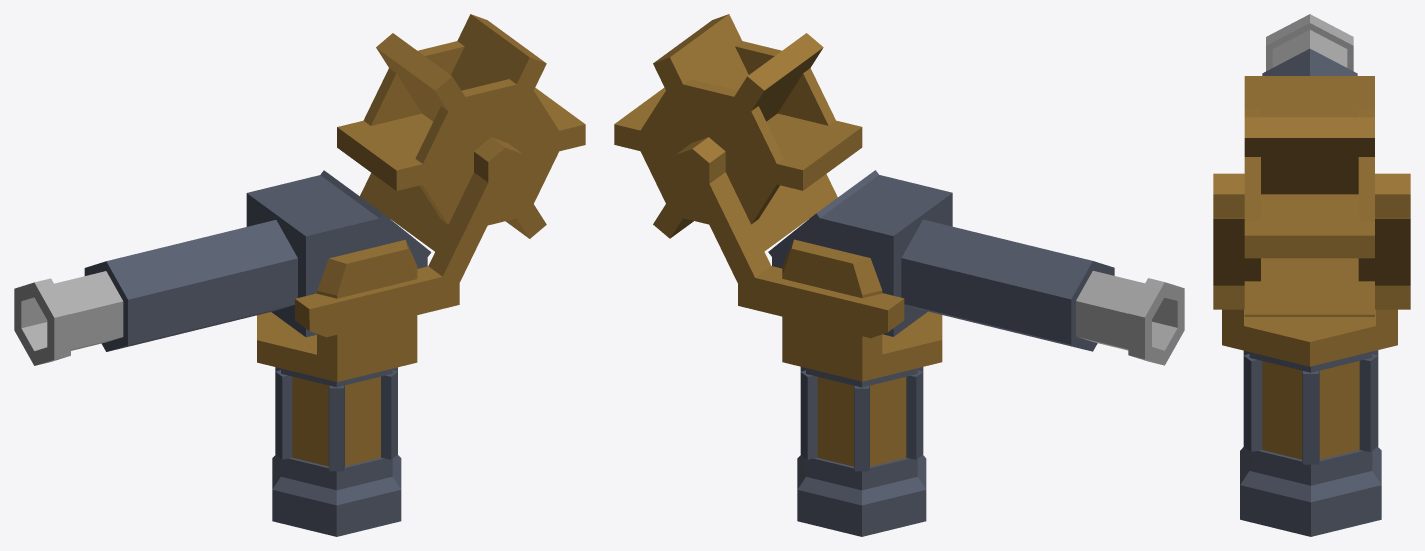
The model's file is turret1_remodel.fbx.
3 renders of one model, left to right at view 1: azimuth 30°, elevation 25°; view 2: azimuth 150°, elevation 25°; view 3: azimuth 270°, elevation 25°, orthographic. The views are drawn at different scales.
Visible parts, largest first — view 1: turret1new_head, turret1new_base; view 2: turret1new_head, turret1new_base; view 3: turret1new_head, turret1new_base.
Boxes of the visible parts, bbox=[...] form: turret1new_head: bbox=[14, 14, 585, 381]; turret1new_base: bbox=[272, 367, 401, 536]; turret1new_head: bbox=[614, 14, 1184, 381]; turret1new_base: bbox=[797, 367, 926, 536]; turret1new_head: bbox=[1213, 14, 1410, 366]; turret1new_base: bbox=[1240, 350, 1381, 536].
Bounding box in the file's own units: 1.06 × 0.8347 × 0.3165.
